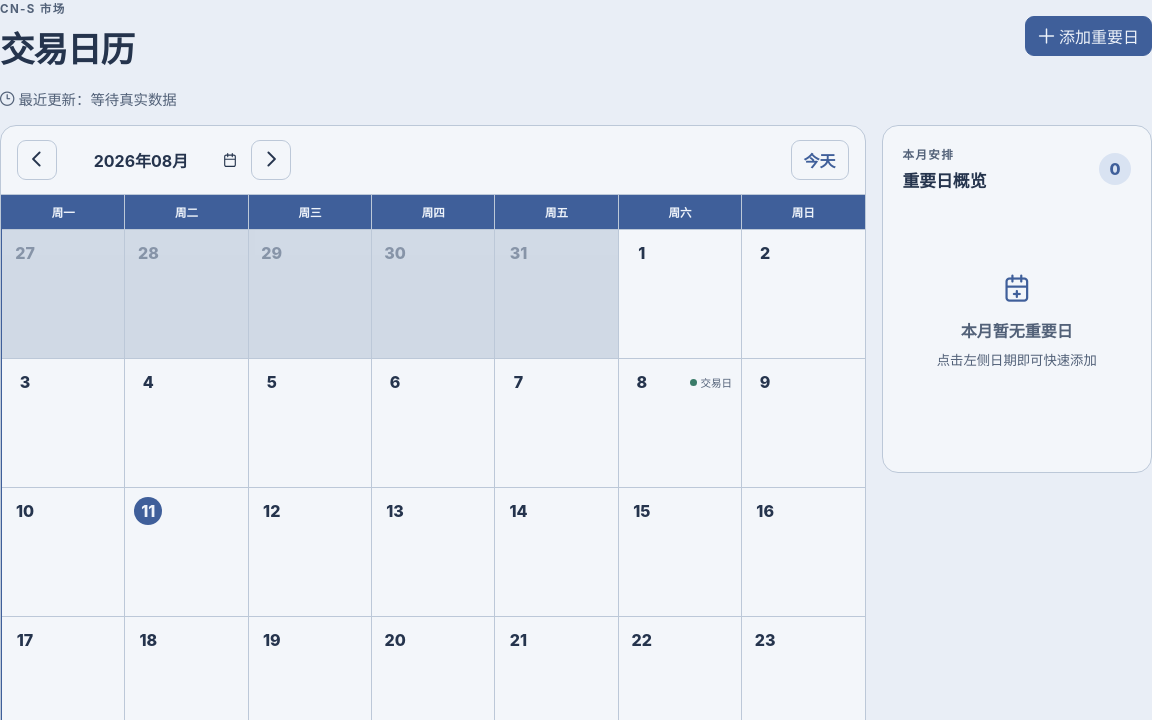
calendar workspace › maps duplicate conflict and server field errors into the dialog
Click the button with aria-label "添加重要日": (1089, 36) [1026,16,1151,56]
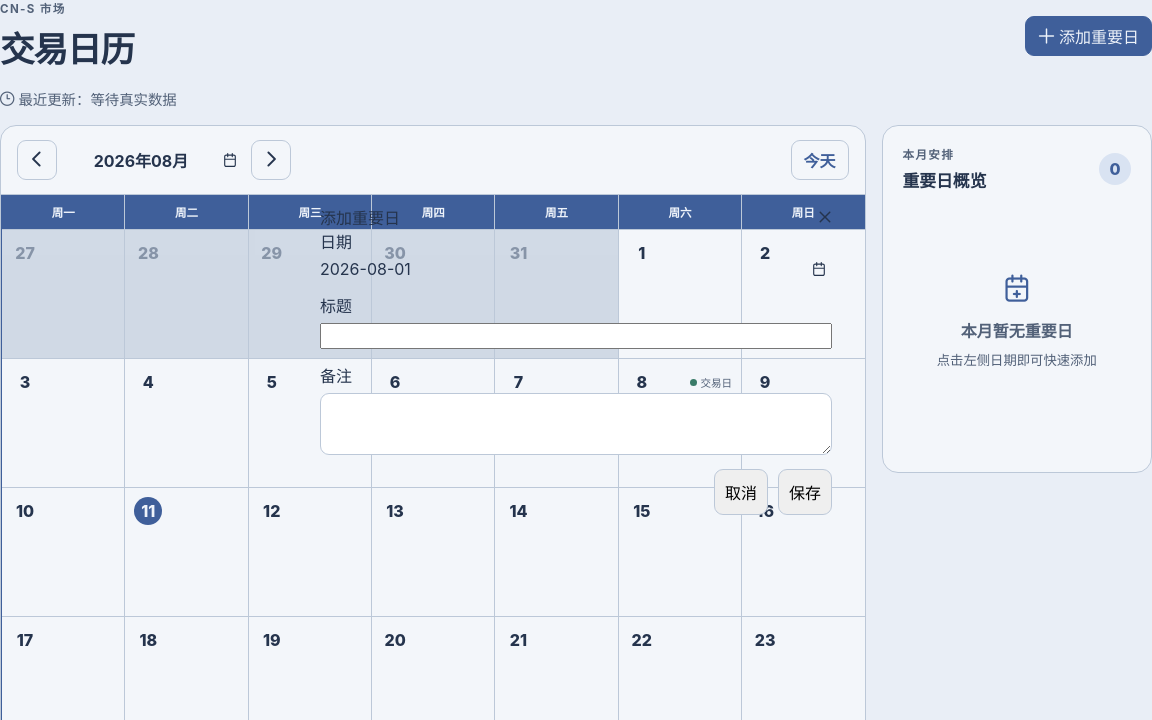
Replace the text in the dropdown with id "important-date-date" with "2026-08-08": (563, 269) [320,259,806,279]
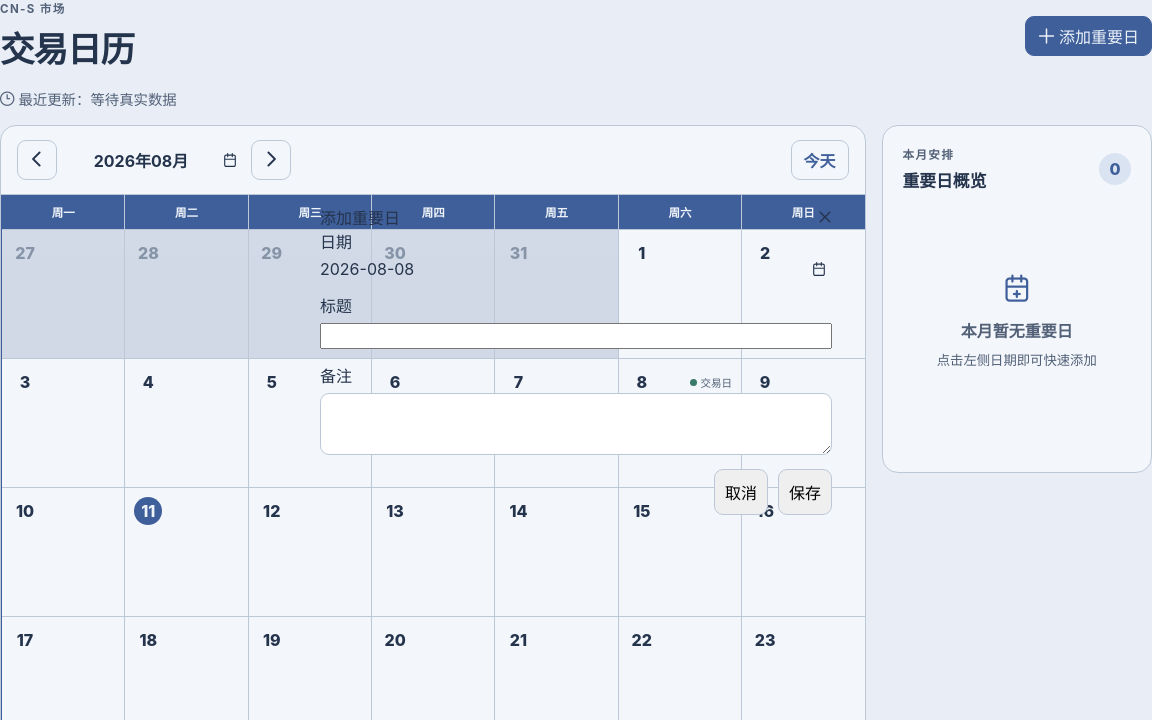
In the field with id "important-date-date": (576, 336) [320,323,832,349], type "财报发布"
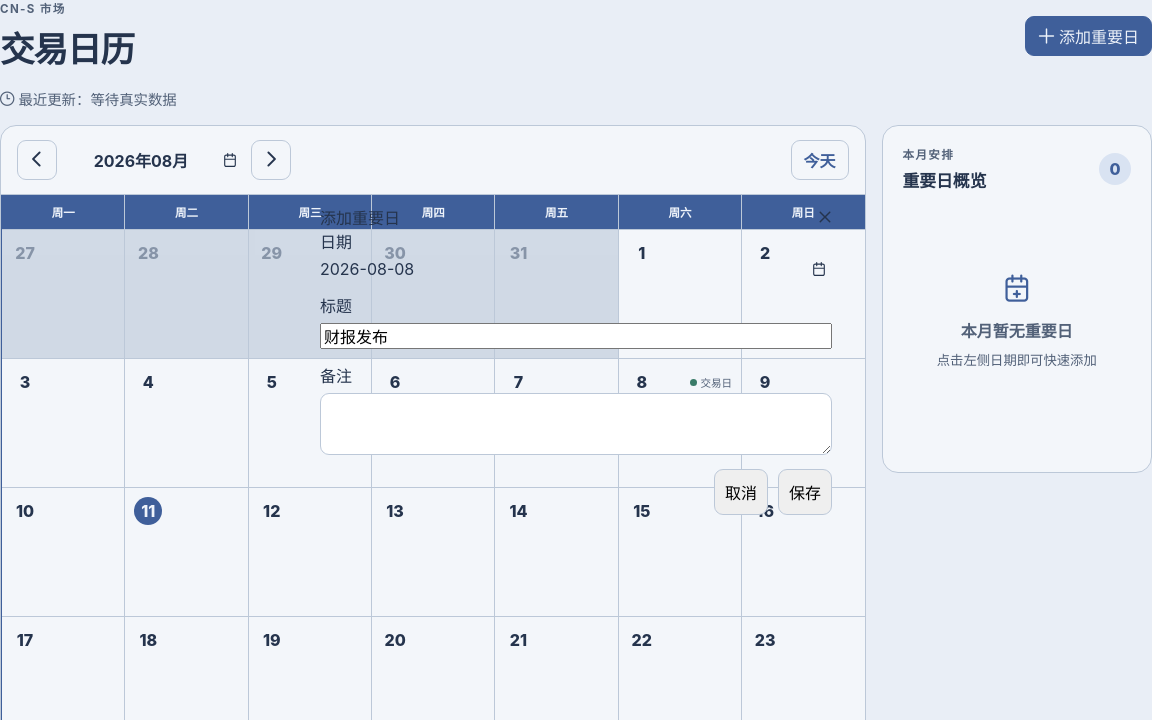
Submit the form, box [320,229,832,515]
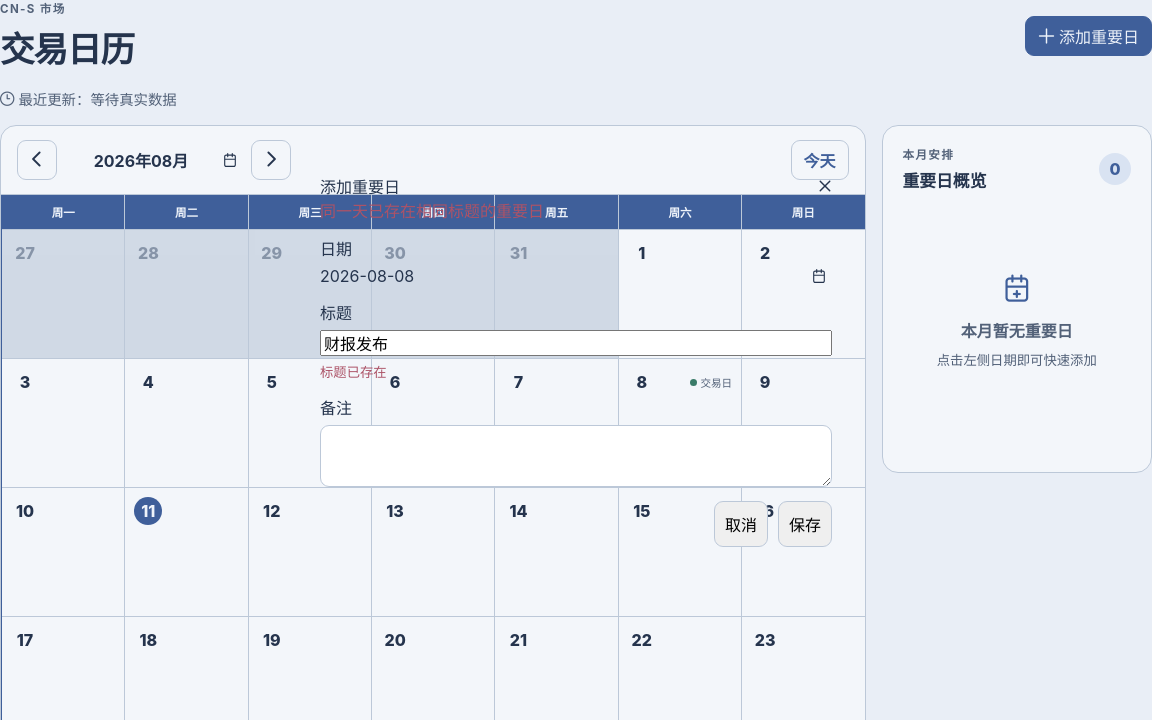
Expected: the text "同一天已存在相同标题的重要日" is shown, [320,200,544,220]
Expected: the text "标题已存在" is shown, [320,364,387,380]
